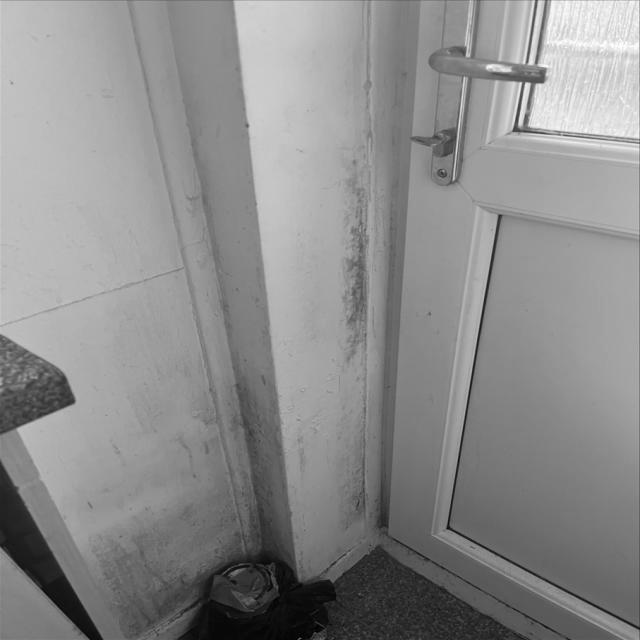stain marks: (287, 31, 400, 578), (69, 362, 284, 640)
